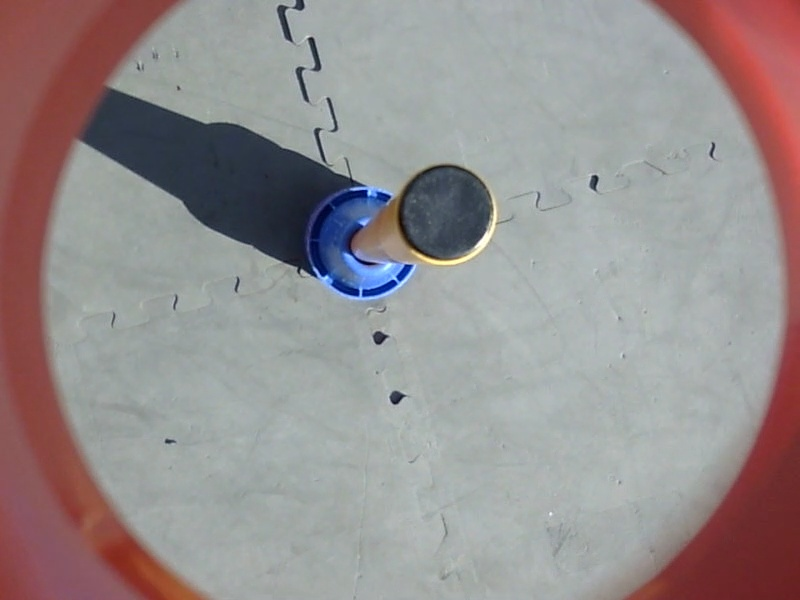tip: (392, 159, 502, 272)
